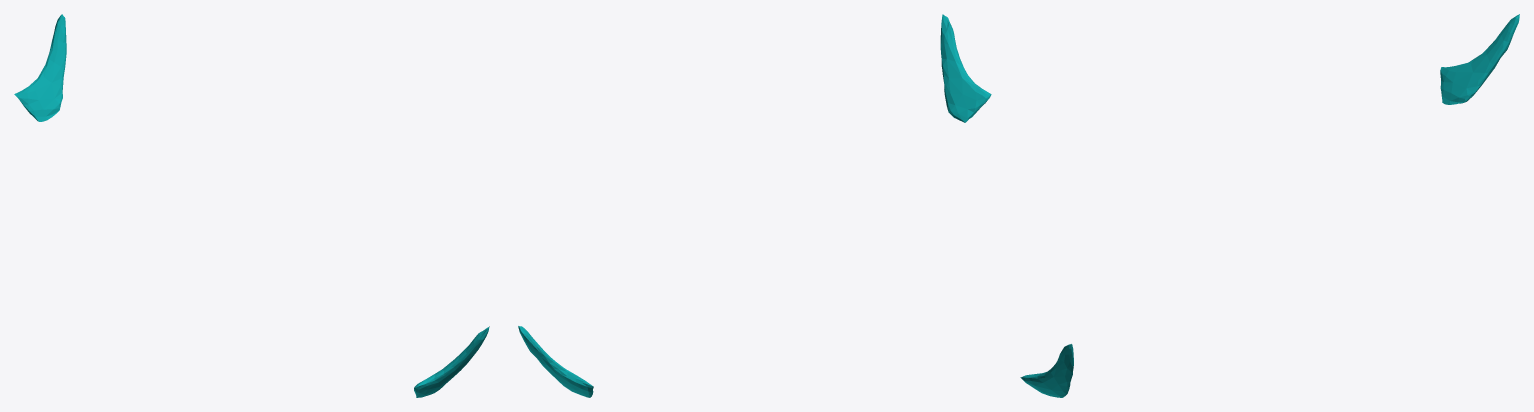
3 views of the same model, side by side, from view 1: azimuth 30°, elevation 25°; view 2: azimuth 150°, elevation 25°; view 3: azimuth 330°, elevation 25° (orthographic). The views are drawn at different scales.
Visible parts, largest first — view 1: 696.obj; view 2: 696.obj; view 3: 696.obj.
Part boxes in pixels (left/top/right/bottom): 696.obj: left=14, top=14, right=489, bottom=397; 696.obj: left=518, top=14, right=991, bottom=397; 696.obj: left=1020, top=14, right=1519, bottom=397.
Size of the model in its own units: 815 by 986 by 9647.
